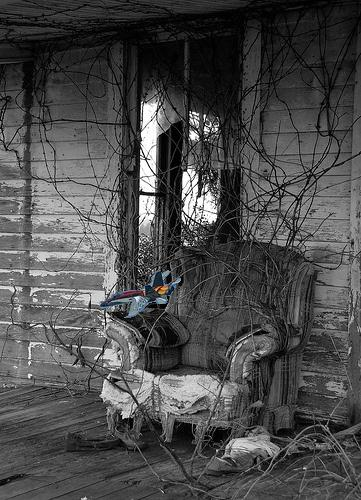tampered: (101, 271, 181, 318)
